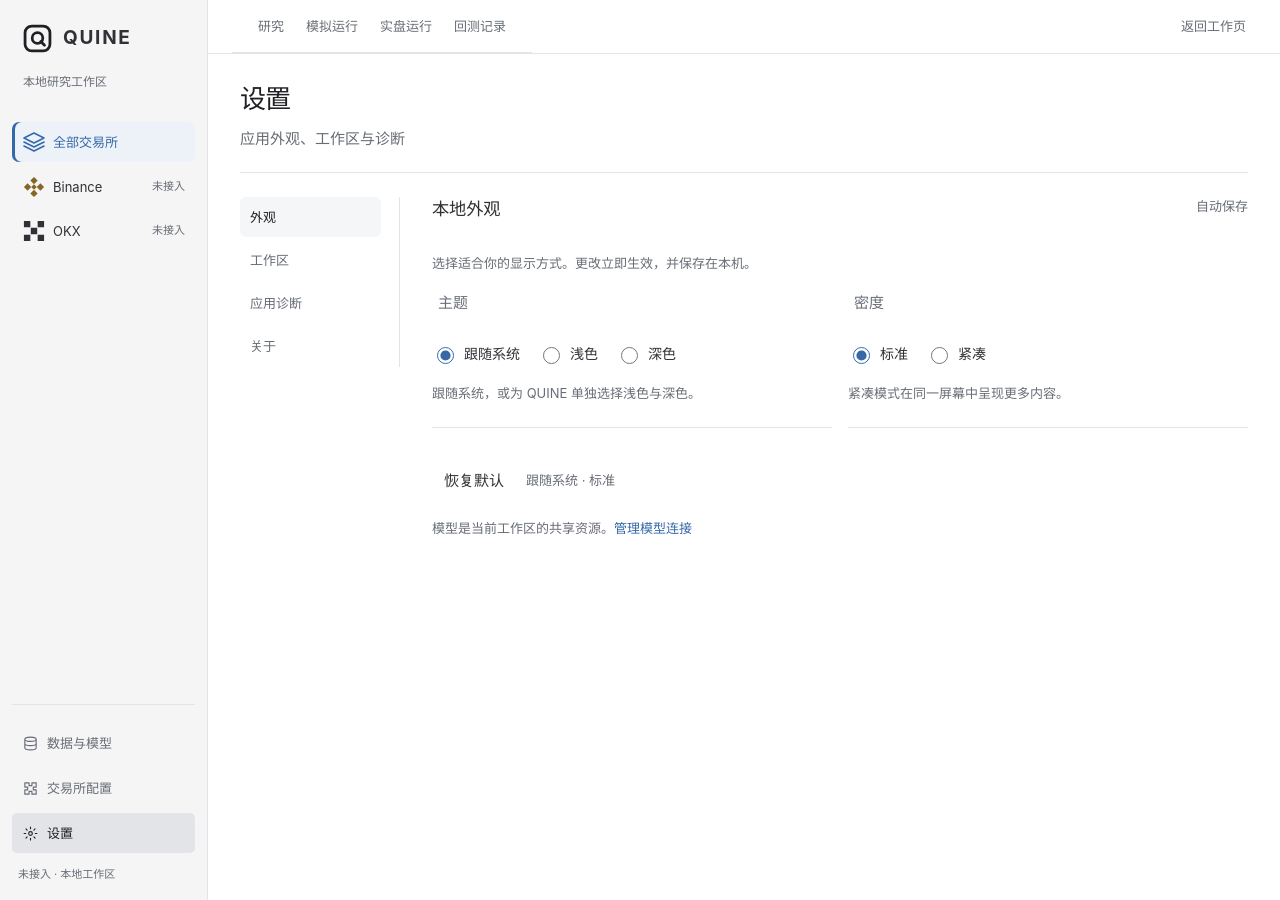
Test: separates appearance and workspace forms
Expected: the heading "设置" is shown, [240,83,290,114]
What coordinates should you click on to do the following:
click the link "工作区"
I would click on:
 (270, 260)
Its box is [250,252,289,268].
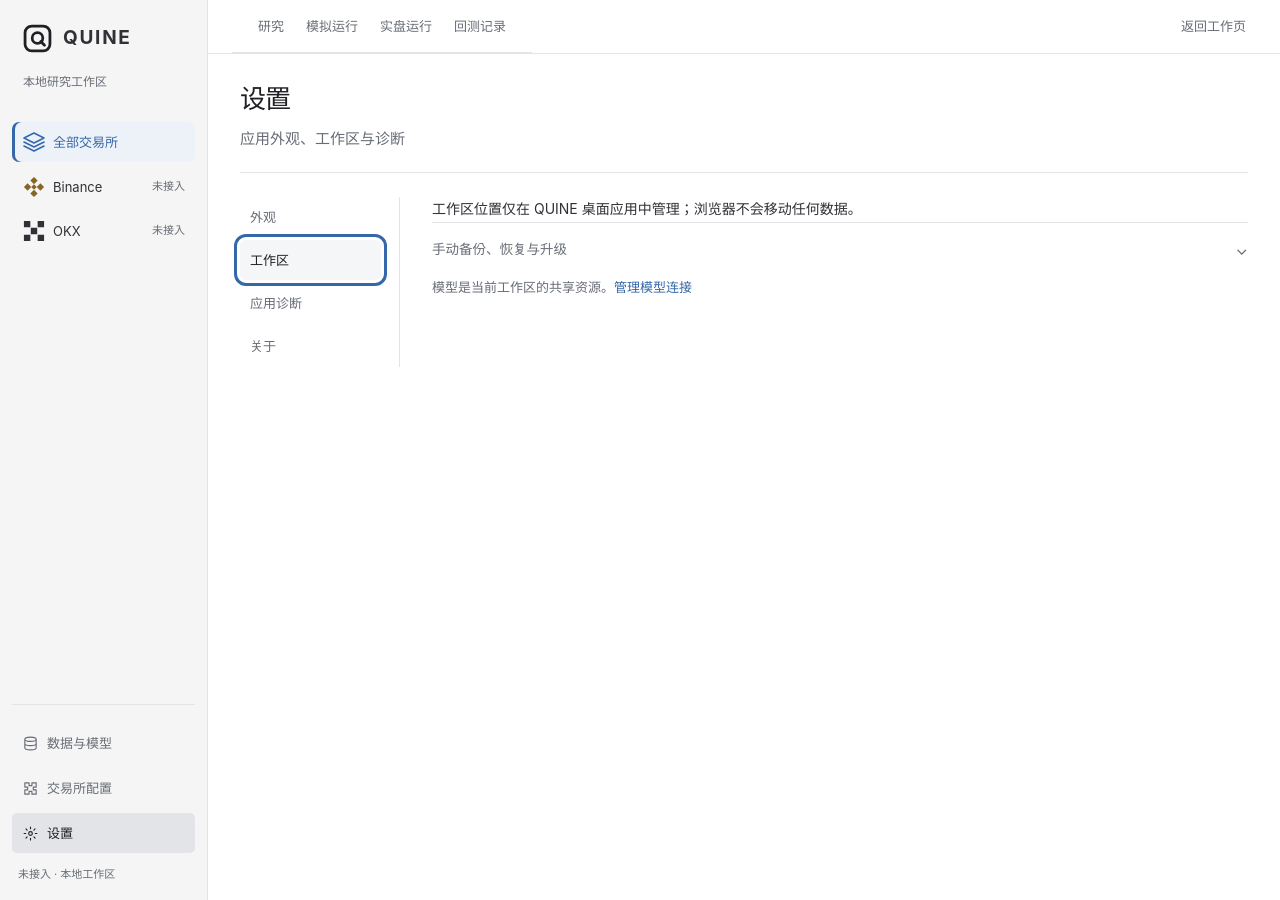
Expected: the text labelled "主题" is gone
